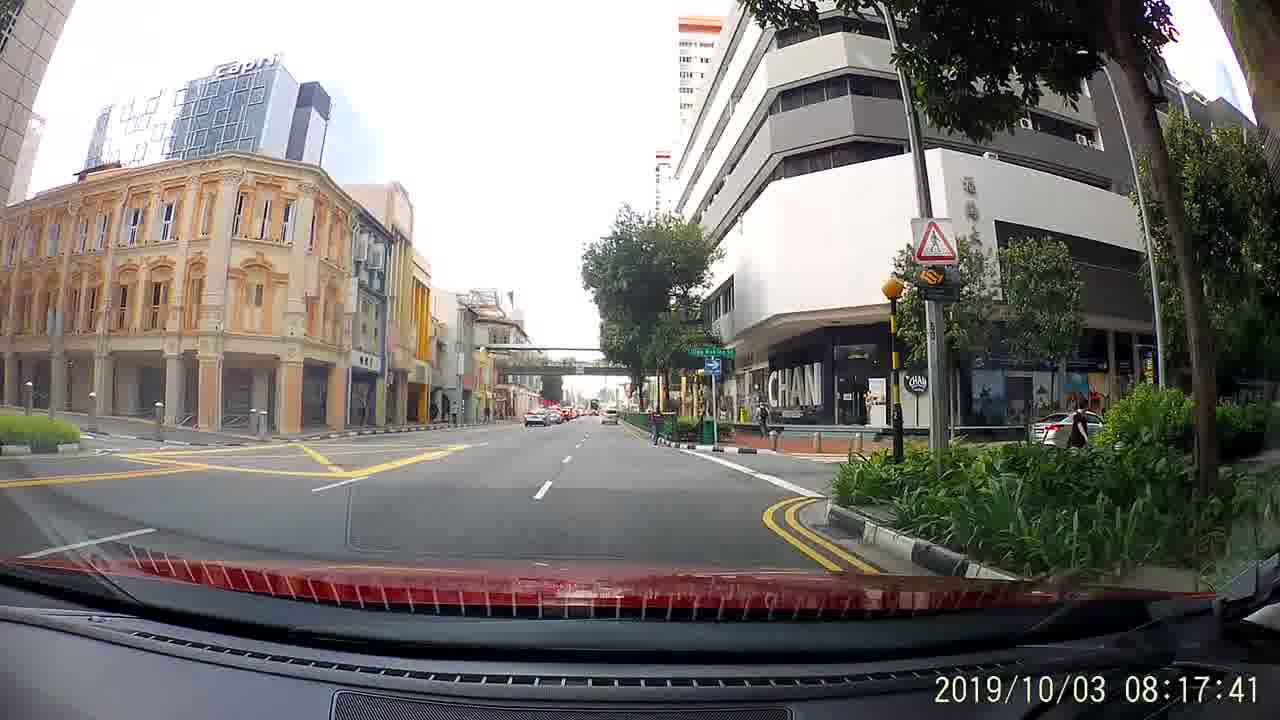car: (1029, 405, 1107, 445), (524, 403, 552, 428), (598, 402, 626, 427)
